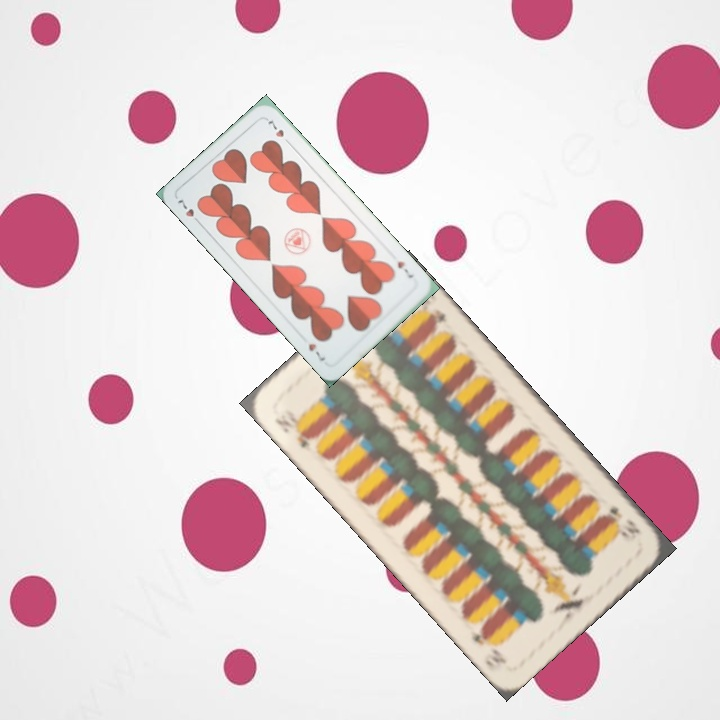E10: (270, 413, 316, 452), (600, 502, 642, 543)
H7: (173, 195, 204, 228), (393, 257, 416, 281)
